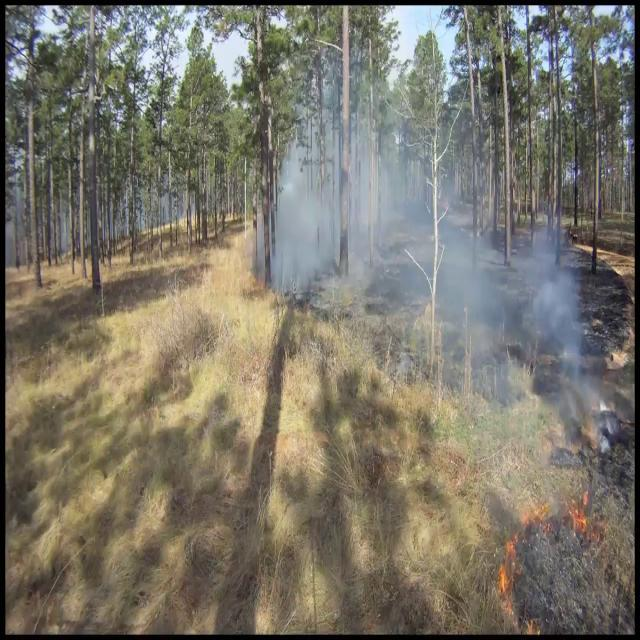Smoke: (268, 98, 464, 320), (426, 208, 590, 366)
